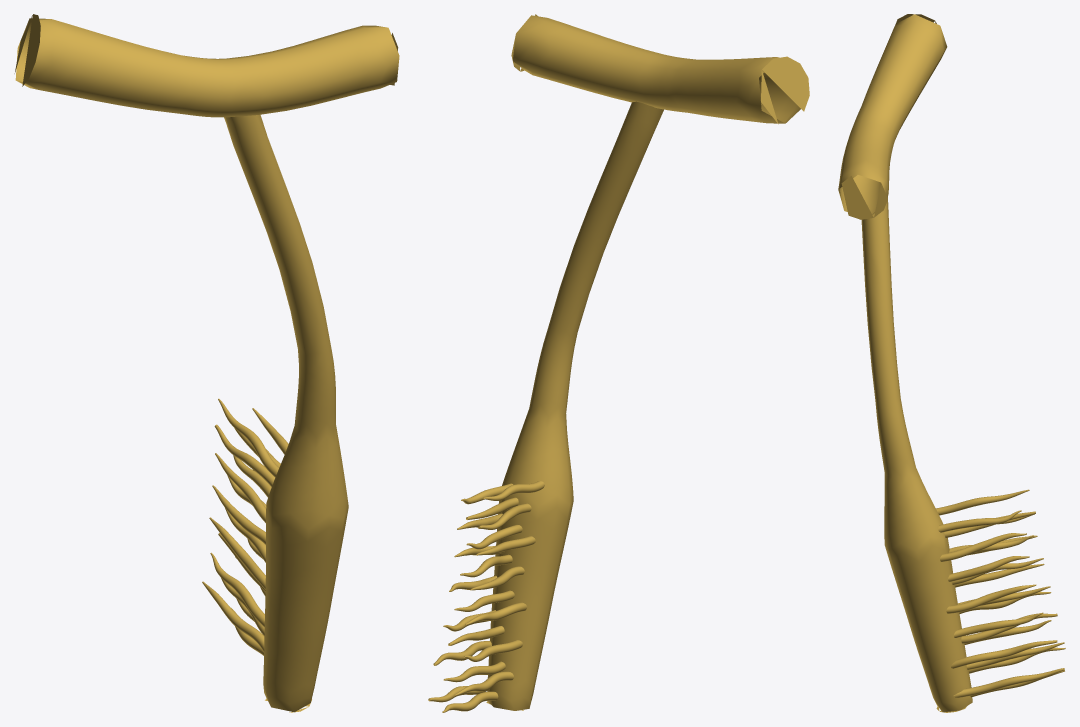
3 renders of one model, left to right at view 1: azimuth 30°, elevation 25°; view 2: azimuth 150°, elevation 25°; view 3: azimuth 270°, elevation 25°, orthographic. The views are drawn at different scales.
Parts seen in each view (by area): view 1: 右侧嗅神经; view 2: 右侧嗅神经; view 3: 右侧嗅神经.
Part boxes in pixels (x1,y1,x2,y2): 右侧嗅神经: (14,14,399,712); 右侧嗅神经: (428,14,809,712); 右侧嗅神经: (838,14,1065,712).
Bounding box in the file's own units: 0.0345 × 0.0755 × 0.0263.
